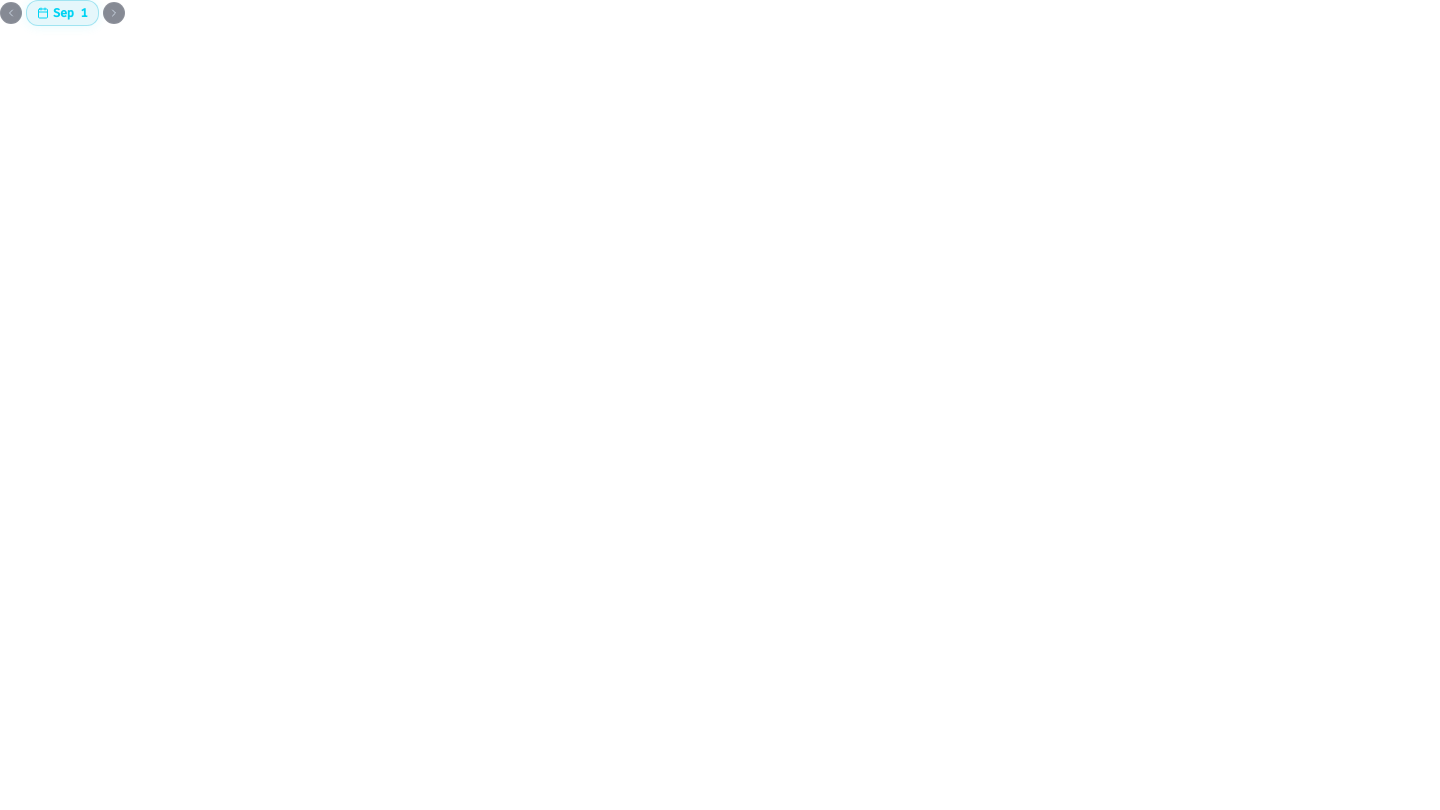
Scenario: Additional UI Component Tests › CalendarPicker Component › should render date picker and trigger popover actions
This screenshot has width=1440, height=810.
Later steps or results of the test are not shown.
Click the button titled "Select Devotional Date". click: (62, 13)
box: [26,0,98,26]
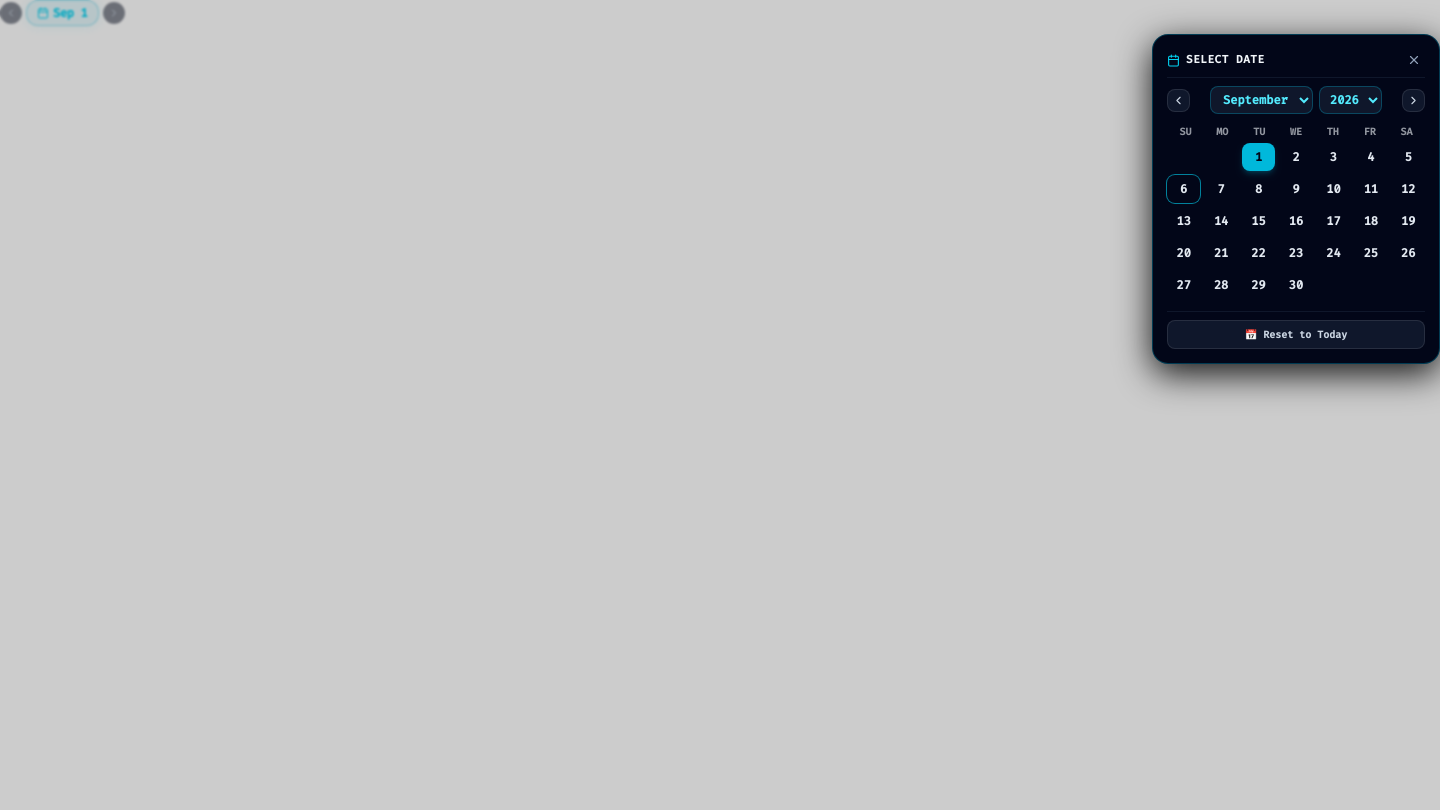
Now the button "📅 Reset to Today" is shown, box [1167,320,1425,349]
